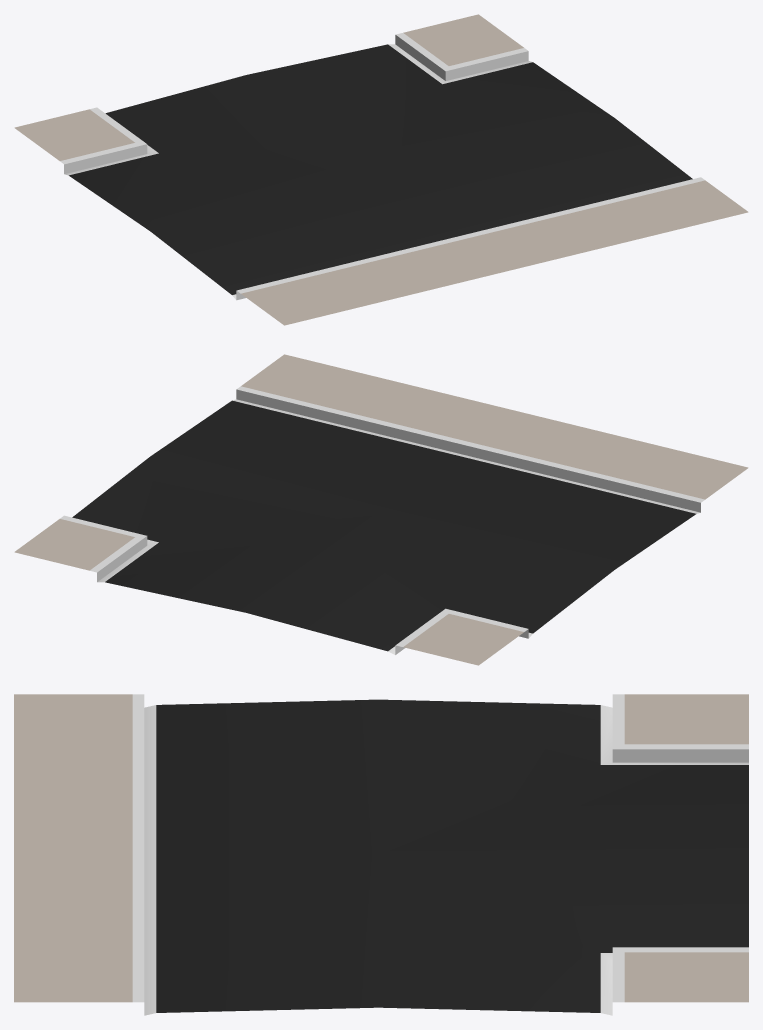
The model's file is Cruzamento_T_3x3_Faixas.fbx.
3 renders of one model, top to bottom at view 1: azimuth 30°, elevation 25°; view 2: azimuth 150°, elevation 25°; view 3: azimuth 270°, elevation 25°, orthographic. The views are drawn at different scales.
Parts seen in each view (by area): view 1: Cruzamento_T_3x3_Faixas; view 2: Cruzamento_T_3x3_Faixas; view 3: Cruzamento_T_3x3_Faixas.
Boxes of the visible parts, x1,y1,x2,y2 form: Cruzamento_T_3x3_Faixas: [14, 14, 748, 325]; Cruzamento_T_3x3_Faixas: [14, 354, 748, 665]; Cruzamento_T_3x3_Faixas: [14, 694, 748, 1015].
Bounding box in the file's own units: 1230 × 25 × 1240.
